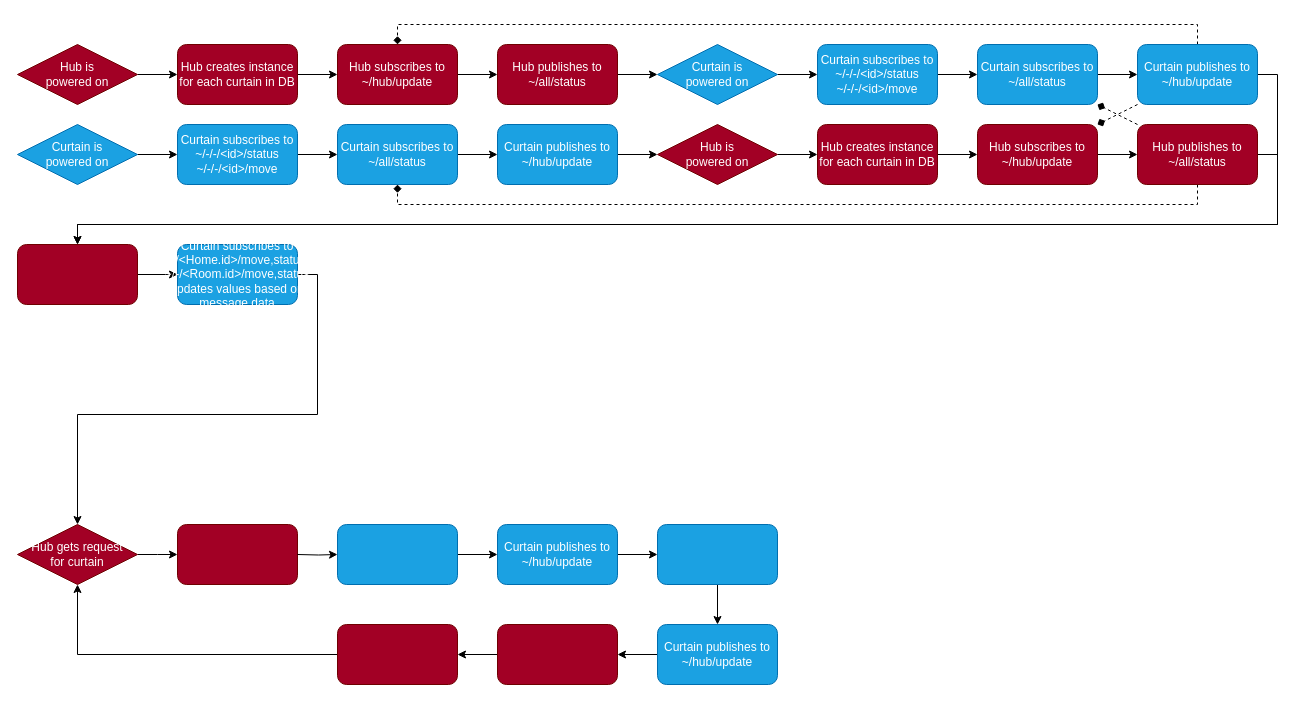
The diagram is 1303 pixels wide and 702 high, and some of its shapes have lost their labels. Each missing label, with the centre of its shape:
Curtain does action: (717,554)
Curtain receives published message: (397,554)
Hub publishes to each curtain ~/-/-/<id>: (77,274)
Hub publishes to ~/-/-/<id>/move or ~/-/<Room.id>/move, ~/<Home.id>/move: (237,554)
Hub receives status on ~/hub/update: (557,654)
Hub updates curtain's status for Curtain instance: (397,654)
